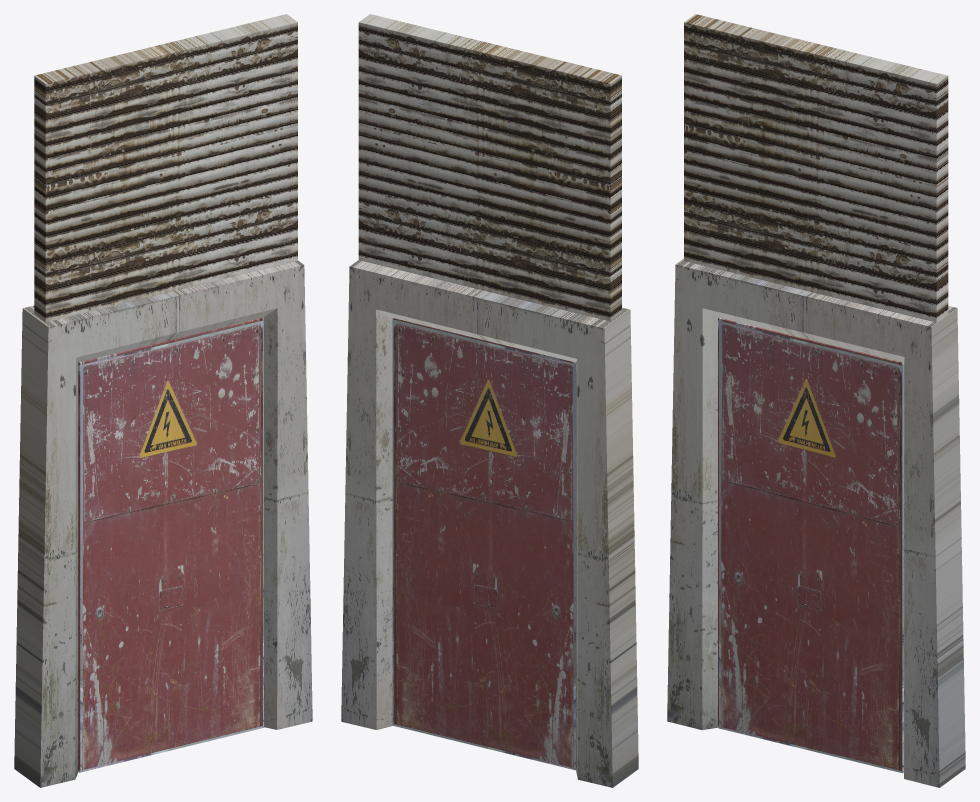
File: door and frame red door 1.obj
The picture shows the model from 3 angles, left to right: view 1: azimuth 30°, elevation 25°; view 2: azimuth 150°, elevation 25°; view 3: azimuth 330°, elevation 25°; orthographic projection.
Parts seen in each view (by area): view 1: Door, Wall_section, Door_frame; view 2: Door, Wall_section, Door_frame; view 3: Door, Wall_section, Door_frame.
Part boxes in pixels (bbox=[...]): Door: bbox=[78, 317, 263, 772]; Wall_section: bbox=[34, 14, 297, 322]; Door_frame: bbox=[14, 260, 312, 787]; Door: bbox=[392, 318, 576, 770]; Wall_section: bbox=[358, 14, 621, 321]; Door_frame: bbox=[341, 260, 638, 787]; Door: bbox=[718, 317, 903, 773]; Wall_section: bbox=[684, 14, 948, 322]; Door_frame: bbox=[667, 258, 965, 787].
Size of the model in its own units: 99.26 by 243 by 16.43.
